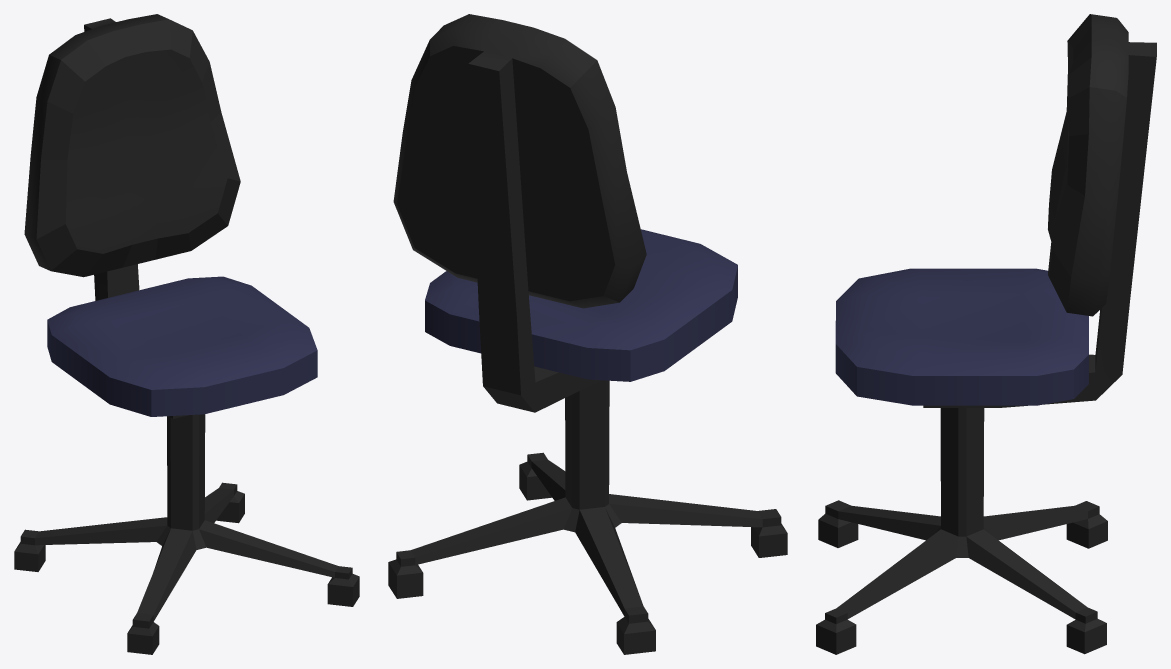
The model's file is deskChair.fbx.
The picture shows the model from 3 angles, left to right: view 1: azimuth 30°, elevation 25°; view 2: azimuth 150°, elevation 25°; view 3: azimuth 270°, elevation 25°; orthographic projection. The views are drawn at different scales.
Visible parts, largest first — view 1: Box001; view 2: Box001; view 3: Box001.
Boxes of the visible parts, x1,y1,x2,y2 form: Box001: (14,14,359,654); Box001: (388,14,787,654); Box001: (816,14,1156,654).
Size of the model in its own units: 46.18 by 97.53 by 53.76.
